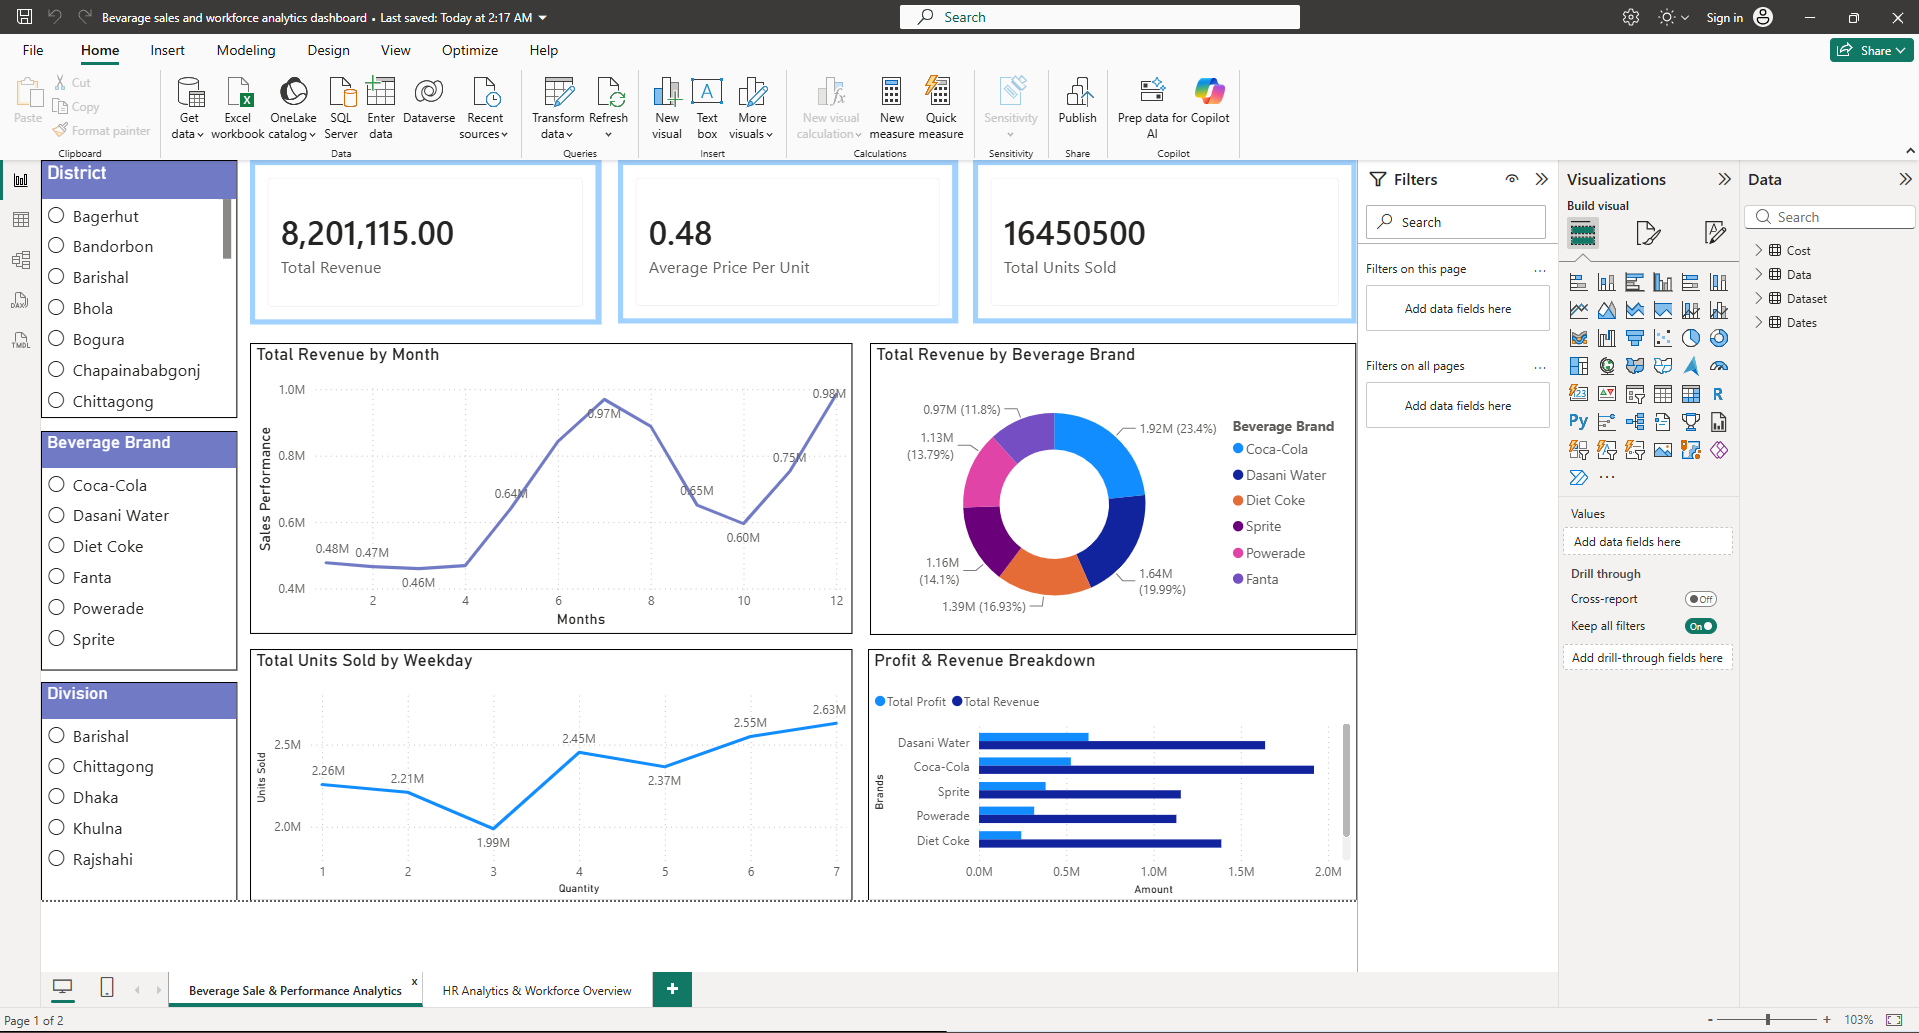

What the dashboard file says about the page in this screenshot:
{"tool":"powerbi","page":{"name":"Beverage Sale & Performance Analytics","canvas":[1280,720],"ordinal":0},"visuals":[{"type":"listSlicer","fields":{"Values":["Data.District"]},"box":[0,0,191.3,250.7],"z":0},{"type":"listSlicer","fields":{"Values":["Data.Division"]},"box":[0,507.2,191.3,213],"z":1000},{"type":"listSlicer","fields":{"Values":["Data.Beverage Brand"]},"box":[0,263.8,191.3,233.3],"z":2000},{"type":"cardVisual","fields":{"Data":["Cost.Total Units Sold"]},"box":[906.1,0,373.5,159.2],"z":3000},{"type":"cardVisual","fields":{"Data":["Cost.Total Revenue"]},"box":[203.1,0,341.5,160],"z":4000},{"type":"cardVisual","fields":{"Data":["Cost.Average Price Per Unit"]},"box":[561.2,0,330.6,159.2],"z":5000},{"type":"lineChart","fields":{"Category":["Dates.Month"],"Y":["Cost.Total Revenue"]},"box":[203.4,177.6,586.2,282.8],"z":6000},{"type":"lineChart","fields":{"Category":["Dates.Weekday"],"Y":["Cost.Total Units Sold"]},"box":[203.4,475.9,586.2,244.8],"z":7000},{"type":"donutChart","fields":{"Category":["Data.Beverage Brand"],"Y":["Cost.Total Revenue"]},"box":[806.1,177.6,473.5,283.7],"z":8000},{"type":"clusteredBarChart","title":"Profit & Revenue Breakdown","fields":{"Category":["Data.Beverage Brand"],"Y":["Cost.Total Profit","Cost.Total Revenue"]},"box":[804.1,475.5,475.5,244.9],"z":9000}]}

Visuals, with their boxes on the page's 1280x720 design canvas (x1, y1, x2, y2). These are canvas units, not pixel positions in the 1919x1033 screenshot, which may show the page scaled, cropped or inside an application window:
listSlicer - Data.District: detection(0, 0, 191, 251)
listSlicer - Data.Division: detection(0, 507, 191, 720)
listSlicer - Data.Beverage Brand: detection(0, 264, 191, 497)
cardVisual - Cost.Total Units Sold: detection(906, 0, 1280, 159)
cardVisual - Cost.Total Revenue: detection(203, 0, 545, 160)
cardVisual - Cost.Average Price Per Unit: detection(561, 0, 892, 159)
lineChart - Dates.Month x Cost.Total Revenue: detection(203, 178, 790, 460)
lineChart - Dates.Weekday x Cost.Total Units Sold: detection(203, 476, 790, 721)
donutChart - Data.Beverage Brand x Cost.Total Revenue: detection(806, 178, 1280, 461)
"Profit & Revenue Breakdown" clusteredBarChart: detection(804, 476, 1280, 720)
